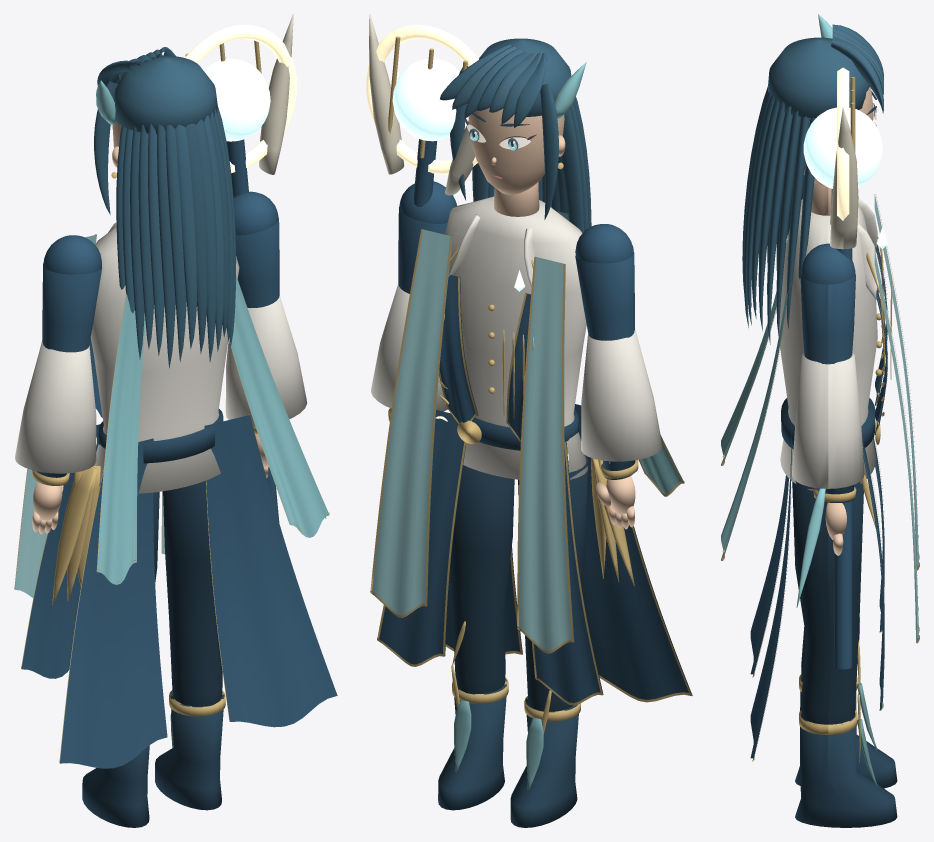
Rendered from character_19.glb.
3 views of the same model, side by side, from view 1: azimuth 30°, elevation 25°; view 2: azimuth 150°, elevation 25°; view 3: azimuth 270°, elevation 25° (orthographic).
Parts seen in each view (by area): view 1: _MeshInstance3D_5607, _MeshInstance3D_5603, _MeshInstance3D_5659, _MeshInstance3D_5597, _MeshInstance3D_5633, _MeshInstance3D_5660, _MeshInstance3D_5629, _MeshInstance3D_5661, _MeshInstance3D_5620, _MeshInstance3D_5622, _MeshInstance3D_5628, _MeshInstance3D_5637 (+13 smaller); view 2: _MeshInstance3D_5597, _MeshInstance3D_5616, _MeshInstance3D_5618, _MeshInstance3D_5633, _MeshInstance3D_5603, _MeshInstance3D_5629, _MeshInstance3D_5659, _MeshInstance3D_5605, _MeshInstance3D_5628, _MeshInstance3D_5625, _MeshInstance3D_5634, _MeshInstance3D_5646 (+30 smaller); view 3: _MeshInstance3D_5659, _MeshInstance3D_5633, _MeshInstance3D_5637, _MeshInstance3D_5597, _MeshInstance3D_5638, _MeshInstance3D_5634, _MeshInstance3D_5660, _MeshInstance3D_5661, _MeshInstance3D_5641, _MeshInstance3D_5642, _MeshInstance3D_5607, _MeshInstance3D_5603 (+19 smaller).
Part boxes in pixels (bbox=[...]): _MeshInstance3D_5607: bbox=[204, 415, 337, 727]; _MeshInstance3D_5603: bbox=[60, 438, 167, 768]; _MeshInstance3D_5659: bbox=[94, 47, 236, 355]; _MeshInstance3D_5597: bbox=[90, 222, 239, 493]; _MeshInstance3D_5633: bbox=[163, 480, 222, 706]; _MeshInstance3D_5660: bbox=[116, 108, 234, 362]; _MeshInstance3D_5629: bbox=[15, 340, 96, 473]; _MeshInstance3D_5661: bbox=[130, 107, 233, 368]; _MeshInstance3D_5620: bbox=[97, 293, 145, 584]; _MeshInstance3D_5622: bbox=[226, 275, 329, 537]; _MeshInstance3D_5628: bbox=[36, 235, 101, 485]; _MeshInstance3D_5637: bbox=[226, 139, 279, 522]; _MeshInstance3D_5597: bbox=[444, 196, 588, 479]; _MeshInstance3D_5616: bbox=[519, 256, 574, 651]; _MeshInstance3D_5618: bbox=[372, 229, 452, 615]; _MeshInstance3D_5633: bbox=[450, 465, 514, 693]; _MeshInstance3D_5603: bbox=[574, 404, 692, 699]; _MeshInstance3D_5629: bbox=[581, 328, 662, 461]; _MeshInstance3D_5659: bbox=[440, 38, 588, 231]; _MeshInstance3D_5605: bbox=[379, 410, 465, 664]; _MeshInstance3D_5628: bbox=[575, 224, 635, 479]; _MeshInstance3D_5625: bbox=[510, 698, 578, 827]; _MeshInstance3D_5634: bbox=[438, 679, 506, 810]; _MeshInstance3D_5646: bbox=[468, 107, 565, 194]; _MeshInstance3D_5659: bbox=[746, 24, 883, 344]; _MeshInstance3D_5633: bbox=[792, 481, 863, 724]; _MeshInstance3D_5637: bbox=[800, 243, 855, 669]; _MeshInstance3D_5597: bbox=[779, 198, 877, 490]; _MeshInstance3D_5638: bbox=[792, 352, 864, 488]; _MeshInstance3D_5634: bbox=[795, 713, 897, 827]; _MeshInstance3D_5660: bbox=[743, 92, 809, 330]; _MeshInstance3D_5661: bbox=[742, 88, 801, 336]; _MeshInstance3D_5641: bbox=[803, 107, 882, 188]; _MeshInstance3D_5642: bbox=[830, 107, 858, 249]; _MeshInstance3D_5607: bbox=[750, 423, 791, 761]; _MeshInstance3D_5603: bbox=[750, 475, 788, 677].
Bounding box in the file's own units: 1.03 × 2.55 × 0.6017.
